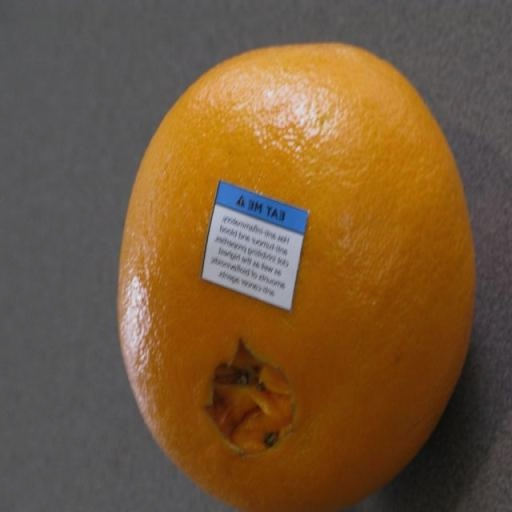fruit: (118, 44, 473, 511)
